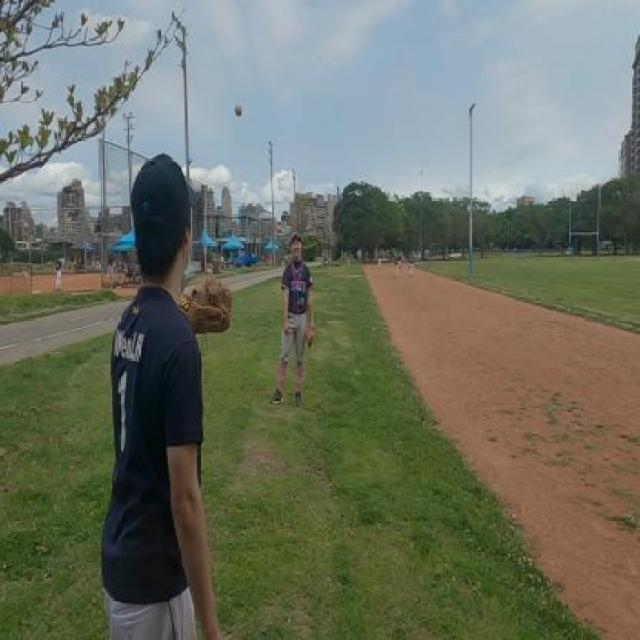baseball: (235, 102, 242, 118)
